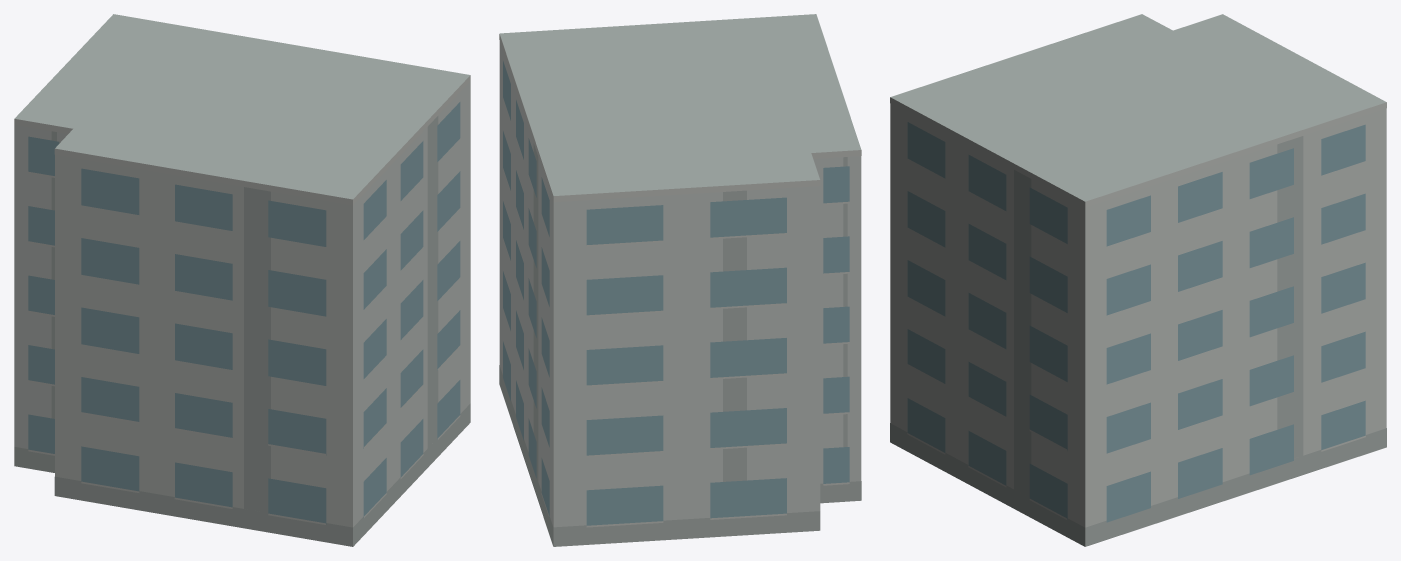
The model's file is survey-upis-33021391.glb.
3 views of the same model, side by side, from view 1: azimuth 30°, elevation 25°; view 2: azimuth 150°, elevation 25°; view 3: azimuth 270°, elevation 25° (orthographic).
Visible parts, largest first — view 1: survey-upis-33021391.tmp; view 2: survey-upis-33021391.tmp; view 3: survey-upis-33021391.tmp.
Boxes of the visible parts, x1,y1,x2,y2 form: survey-upis-33021391.tmp: (14, 14, 470, 546); survey-upis-33021391.tmp: (499, 14, 861, 546); survey-upis-33021391.tmp: (890, 14, 1386, 546).
Size of the model in its own units: 16.22 by 13.9 by 18.13.
